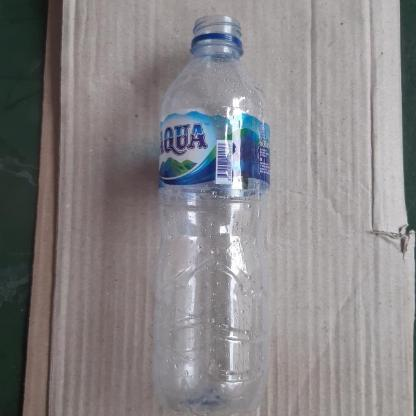Plastic Bottle: (153, 15, 271, 416)
